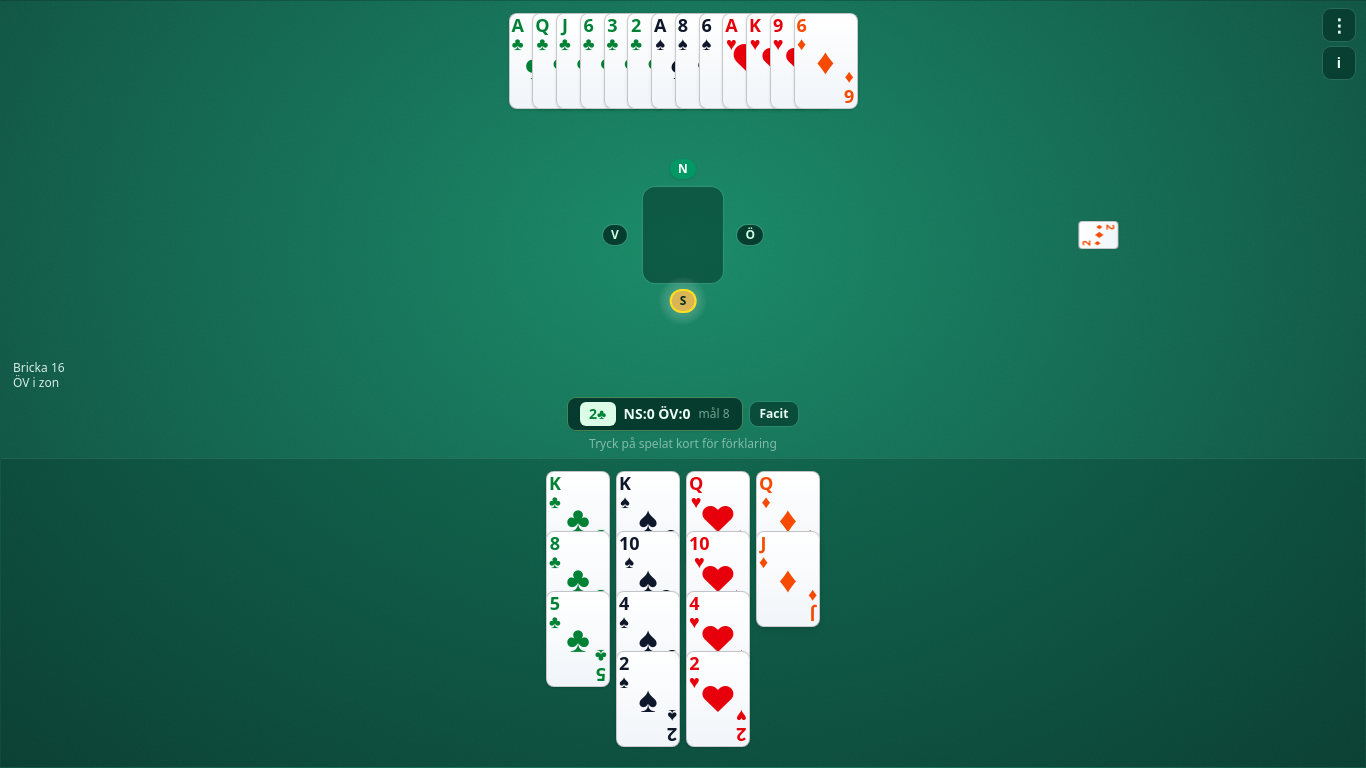
Test: Syd träkarl — Nord spelförare styrs av dig och given fastnar inte › claim-revealen lägger upp ÄVEN de dolda motståndarhänderna (V+Ö-högarna)
The image size is (1366, 768).
Expected: the element "Claim" is not shown
Click the button named "Meny" at [1339, 25], box [1323, 9, 1355, 41]
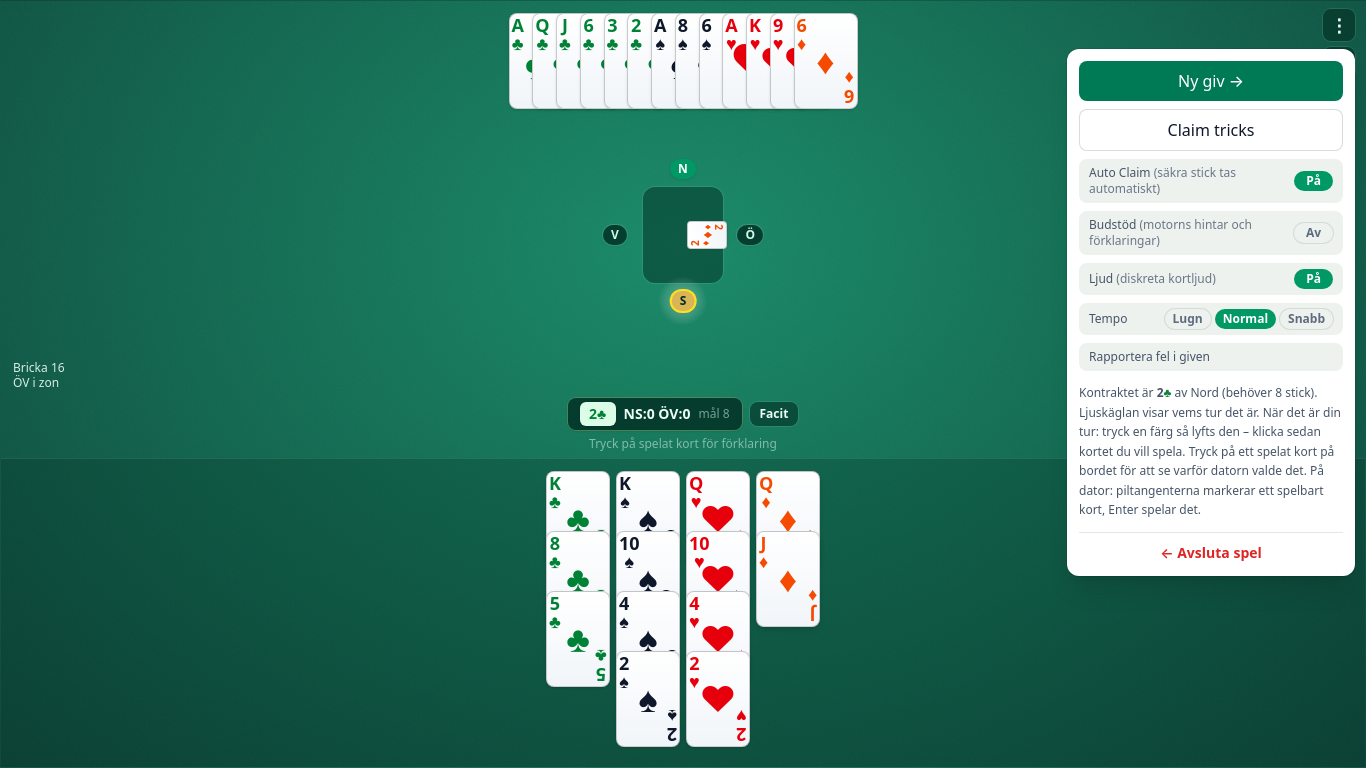
Click the button "Claim tricks" at [1211, 130], box [1079, 109, 1343, 151]
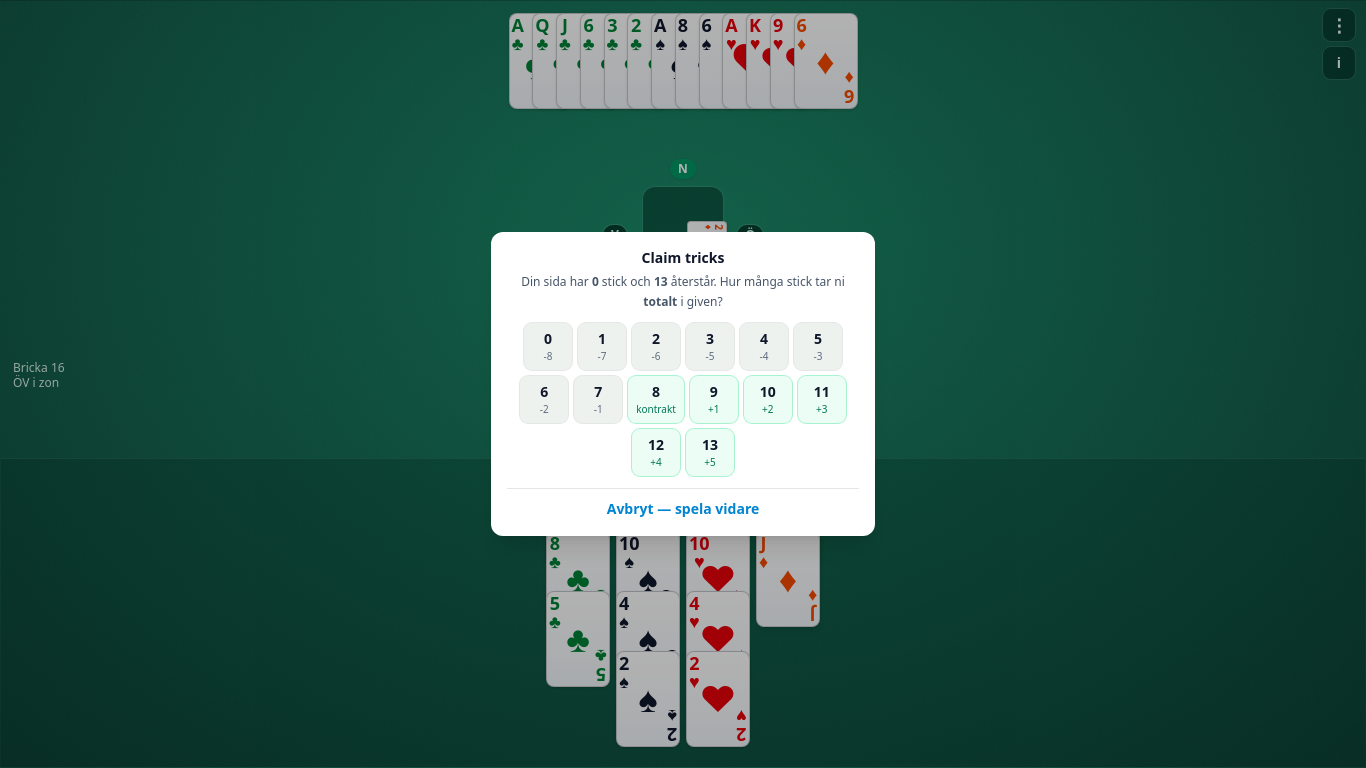
Click the button "13 +5" at [710, 452], box [686, 429, 734, 476]
Wait 520 ms
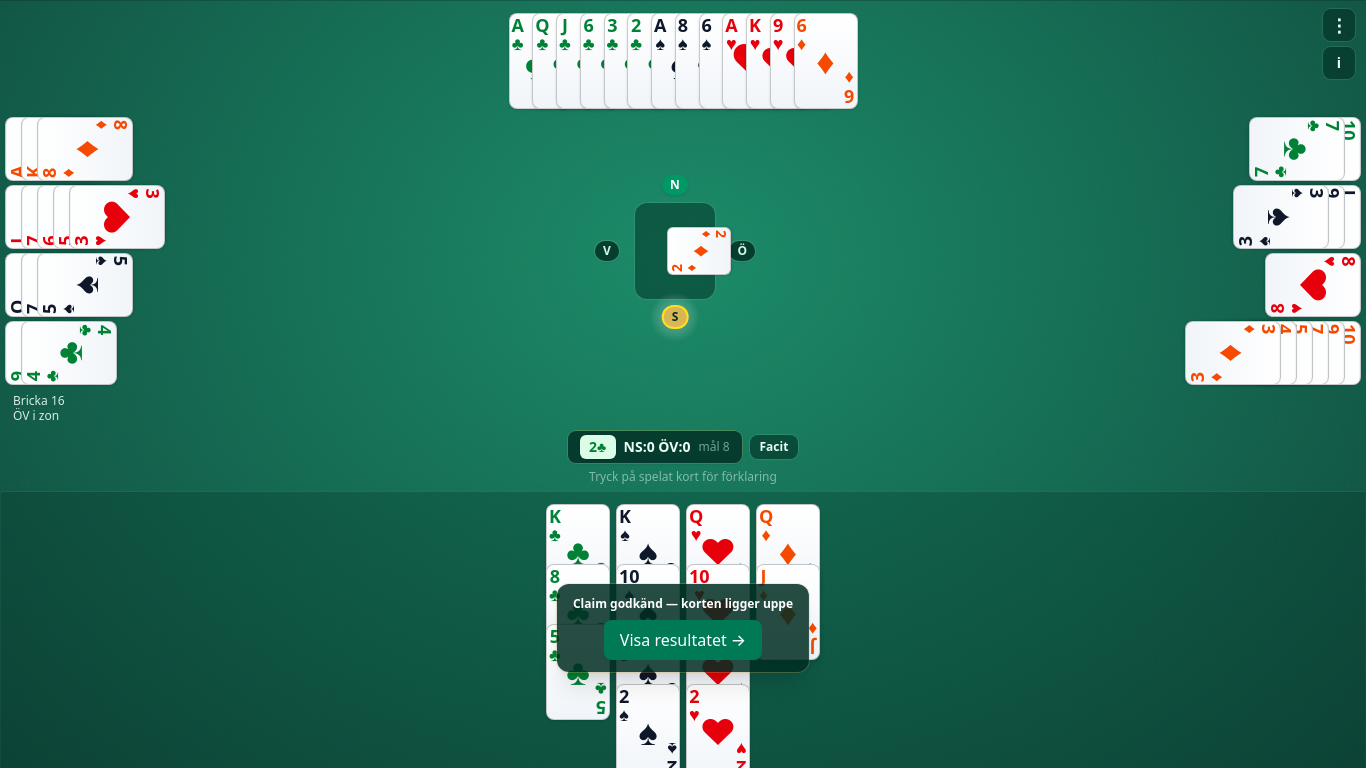
Now the text "Claim godkänd — korten ligger uppe" is shown, box [573, 596, 793, 612]
